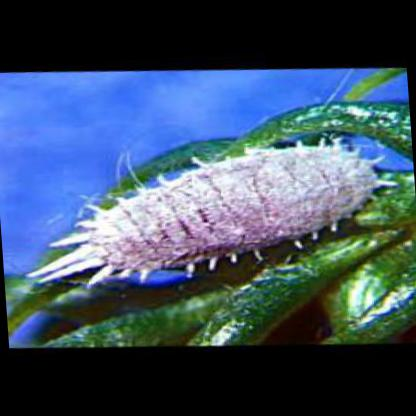mealy bug: (27, 146, 393, 285)
